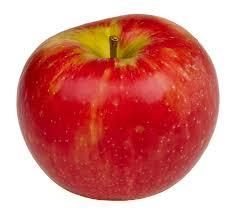Apple: (15, 17, 216, 200)
